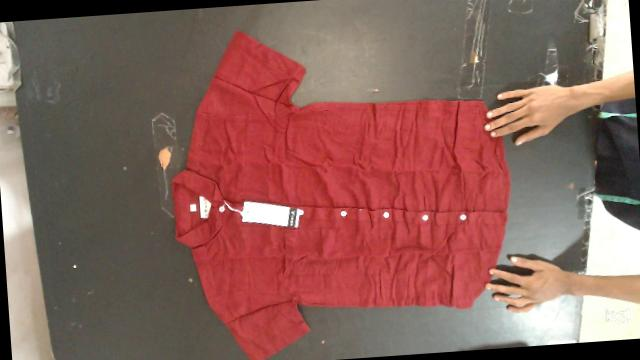new-garment: (172, 31, 509, 360)
